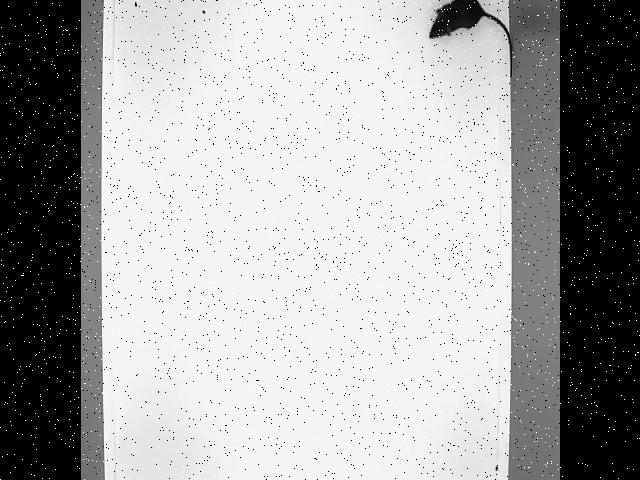Tikus: (427, 0, 511, 76)
